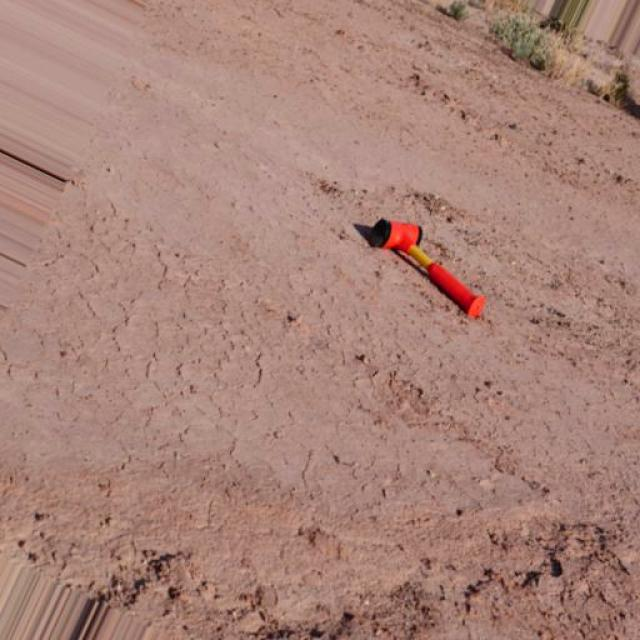mallet: (352, 215, 486, 320)
